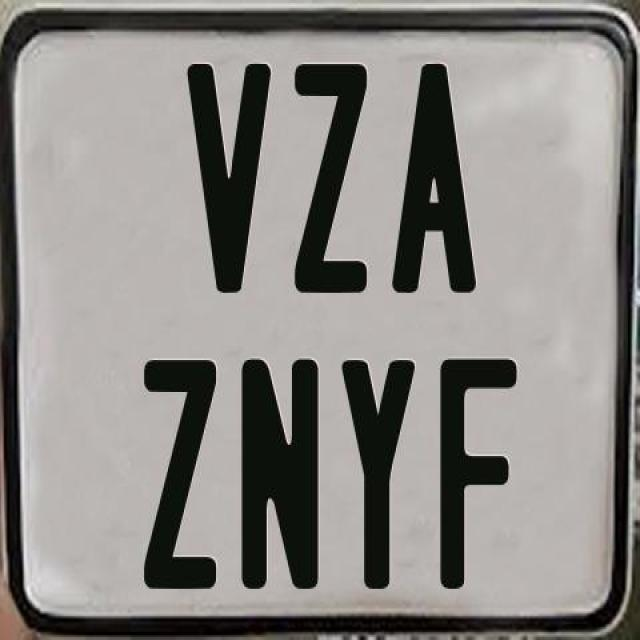A: (391, 63, 478, 294)
F: (440, 353, 524, 588)
N: (240, 356, 318, 590)
V: (186, 59, 278, 298)
Y: (338, 356, 418, 590)
Z: (142, 358, 222, 589), (292, 63, 366, 294)
